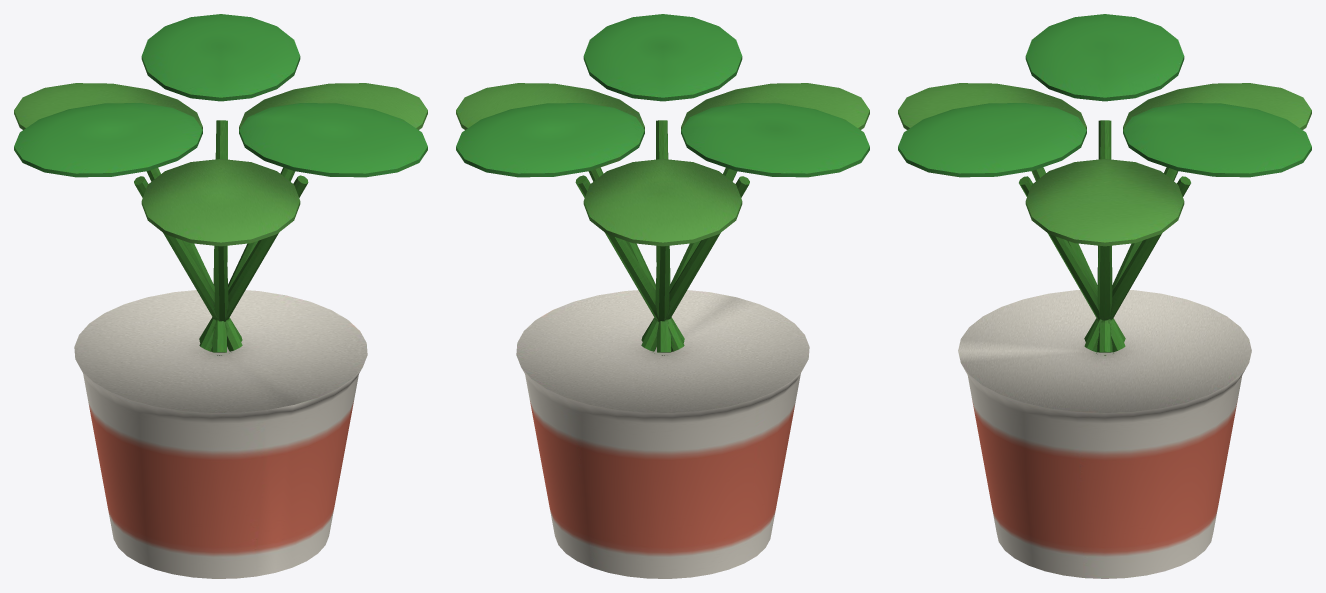
The model's file is plant_pot.glb.
3 views of the same model, side by side, from view 1: azimuth 30°, elevation 25°; view 2: azimuth 150°, elevation 25°; view 3: azimuth 270°, elevation 25° (orthographic).
Visible parts, largest first — view 1: plant_pot; view 2: plant_pot; view 3: plant_pot.
Part boxes in pixels (<box>): plant_pot: <box>14,14,427,578</box>; plant_pot: <box>456,14,869,578</box>; plant_pot: <box>898,14,1311,578</box>.
Size of the model in its own units: 0.5921 by 0.6156 by 0.535.
1 material, 1 textured.
